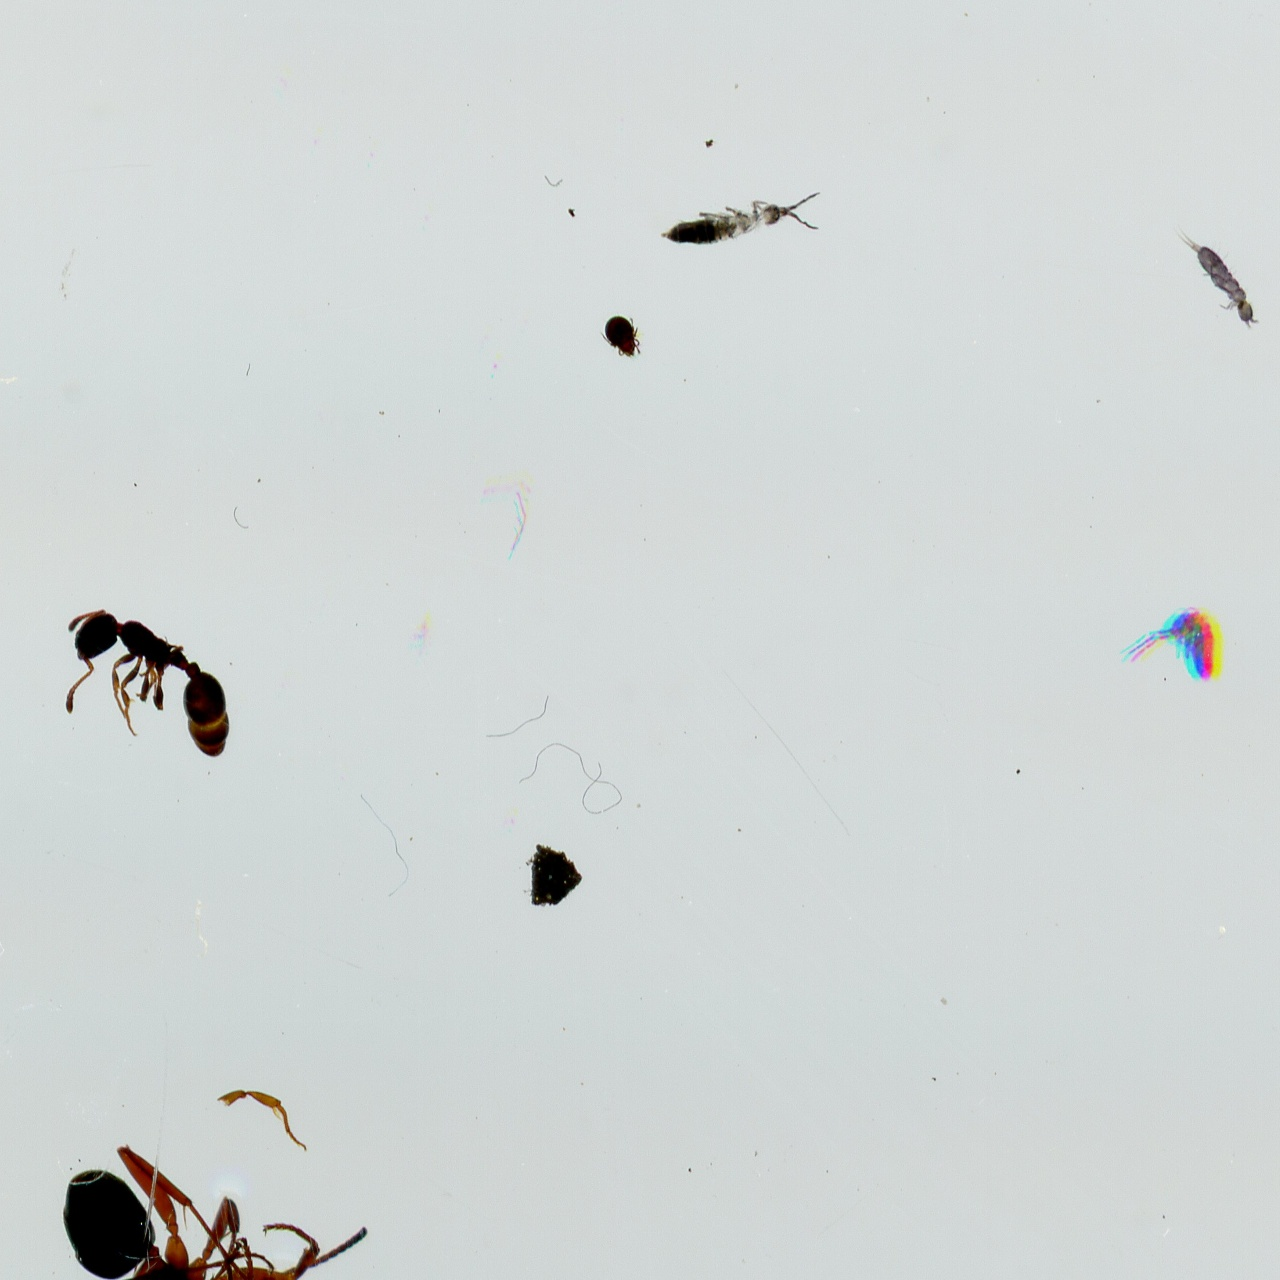arthropod: (39, 1139, 373, 1280), (62, 601, 234, 761), (1162, 210, 1278, 349), (642, 186, 828, 259), (1118, 604, 1231, 687), (593, 308, 651, 368)
